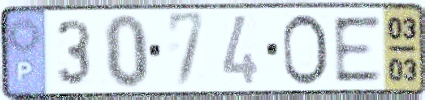0: (98, 12, 153, 91)
3: (53, 18, 93, 87)
4: (219, 12, 260, 89)
7: (165, 9, 206, 92)
E: (330, 13, 385, 85)
O: (280, 11, 332, 88)
